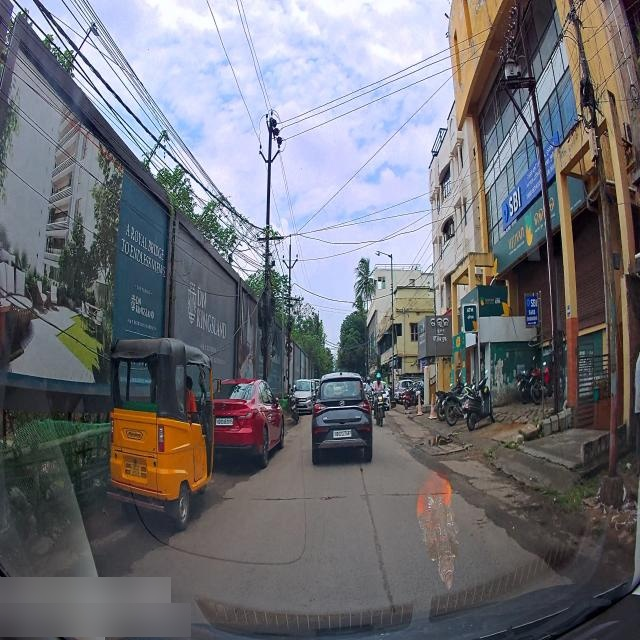pothole: (488, 502, 568, 540), (411, 448, 458, 472)
